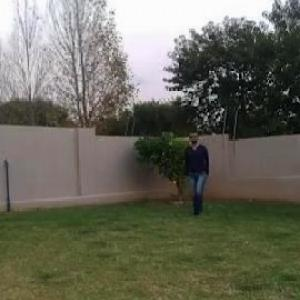follow: (187, 128, 209, 218)
